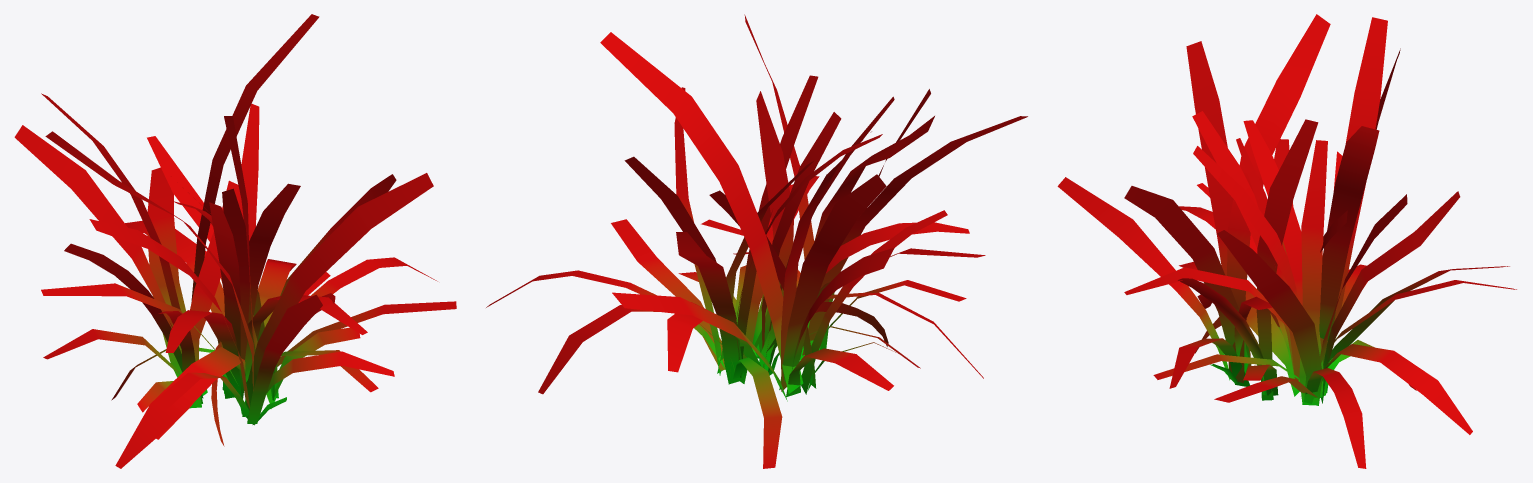
Rendered from Var8_LOD2.fbx.
3 renders of one model, left to right at view 1: azimuth 30°, elevation 25°; view 2: azimuth 150°, elevation 25°; view 3: azimuth 270°, elevation 25°, orthographic. The views are drawn at different scales.
Parts seen in each view (by area): view 1: _ea30_Var8_LOD2; view 2: _ea30_Var8_LOD2; view 3: _ea30_Var8_LOD2.
Boxes of the visible parts, x1,y1,x2,y2 form: _ea30_Var8_LOD2: (14,14,456,468); _ea30_Var8_LOD2: (486,14,1027,468); _ea30_Var8_LOD2: (1057,14,1516,468).
Size of the model in its own units: 102 by 79.8 by 95.66.
